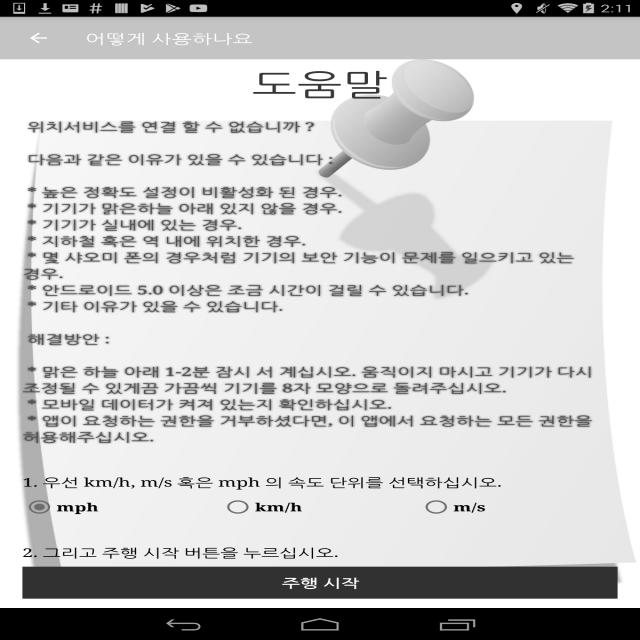Button: (22, 566, 618, 598)
ImageButton: (9, 17, 68, 59)
RadioButton: (22, 496, 221, 518), (419, 496, 618, 518), (221, 496, 419, 518)
TextView: (22, 102, 618, 461), (22, 474, 618, 490), (22, 544, 618, 560), (252, 63, 388, 102), (85, 29, 253, 47)
